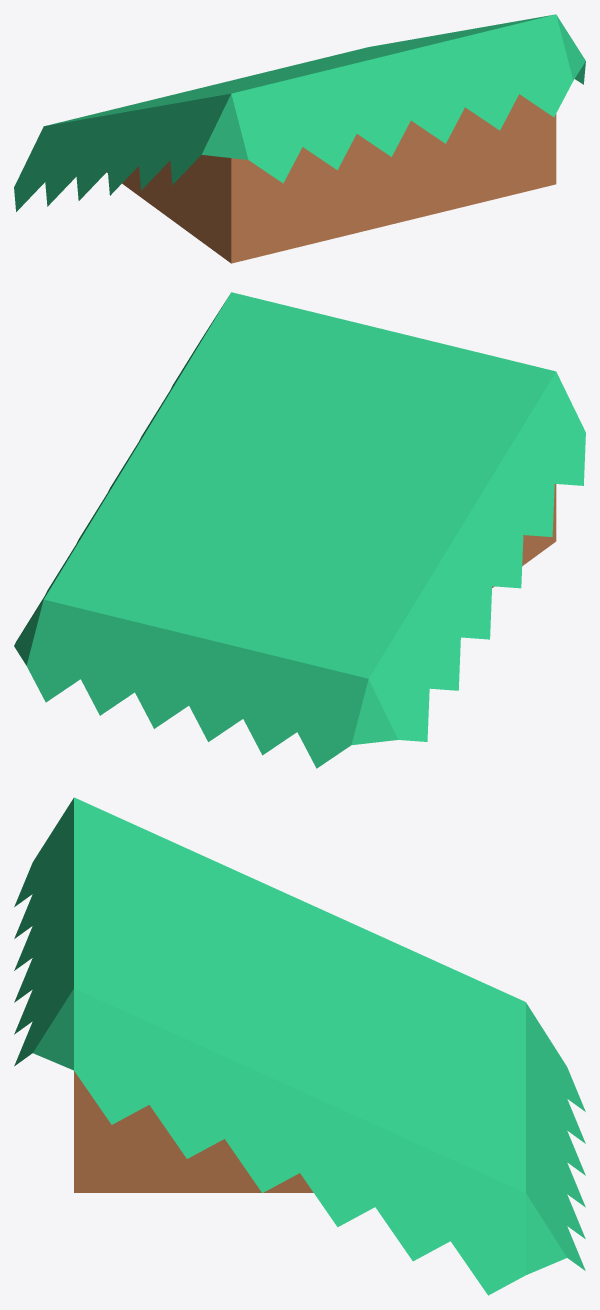
Rendered from blockSlopeHalf.glb.
3 views of the same model, one above another, from view 1: azimuth 30°, elevation 25°; view 2: azimuth 150°, elevation 25°; view 3: azimuth 270°, elevation 25° (orthographic). The views are drawn at different scales.
Visible parts, largest first — view 1: blockSlopeHalf; view 2: blockSlopeHalf; view 3: blockSlopeHalf.
Boxes of the visible parts, x1,y1,x2,y2 form: blockSlopeHalf: (14,14,585,263); blockSlopeHalf: (14,292,585,768); blockSlopeHalf: (14,797,585,1295).
Bounding box in the file's own units: 1.27 × 0.7304 × 1.27.
